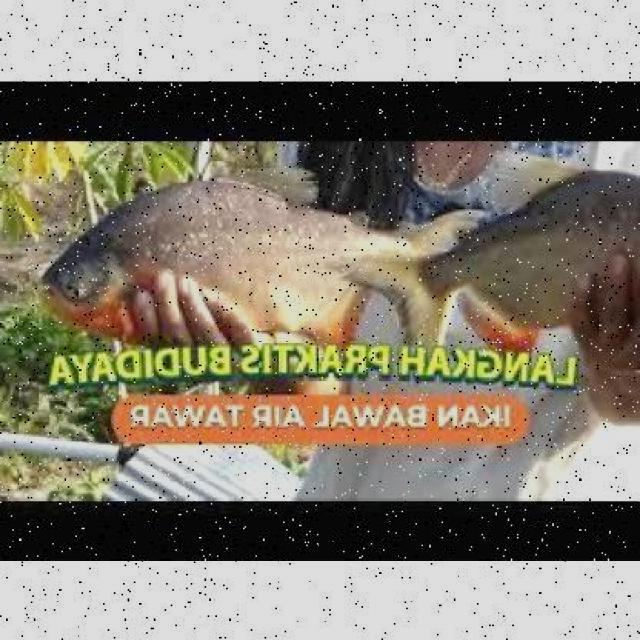ikan-pacu: (39, 183, 386, 339)
